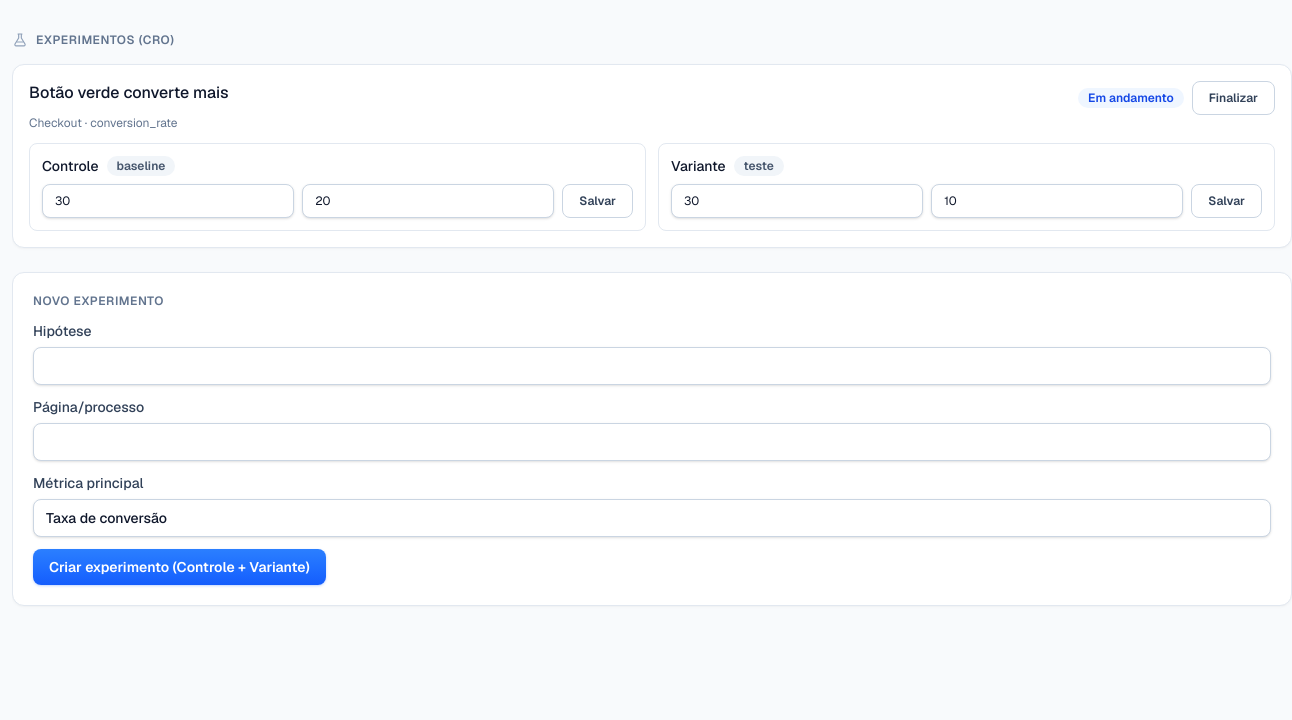
ExperimentsPage › experimento em andamento mostra 'Finalizar' e avança para 'Finalizado', sem mais botão de avanço
Expected: the text "Botão verde converte mais" is shown, [29,81,228,105]
What coordinates should you click on to do the following:
click the button "Finalizar"
I would click on:
 (1233, 98)
Its box is [1192,81,1275,115].
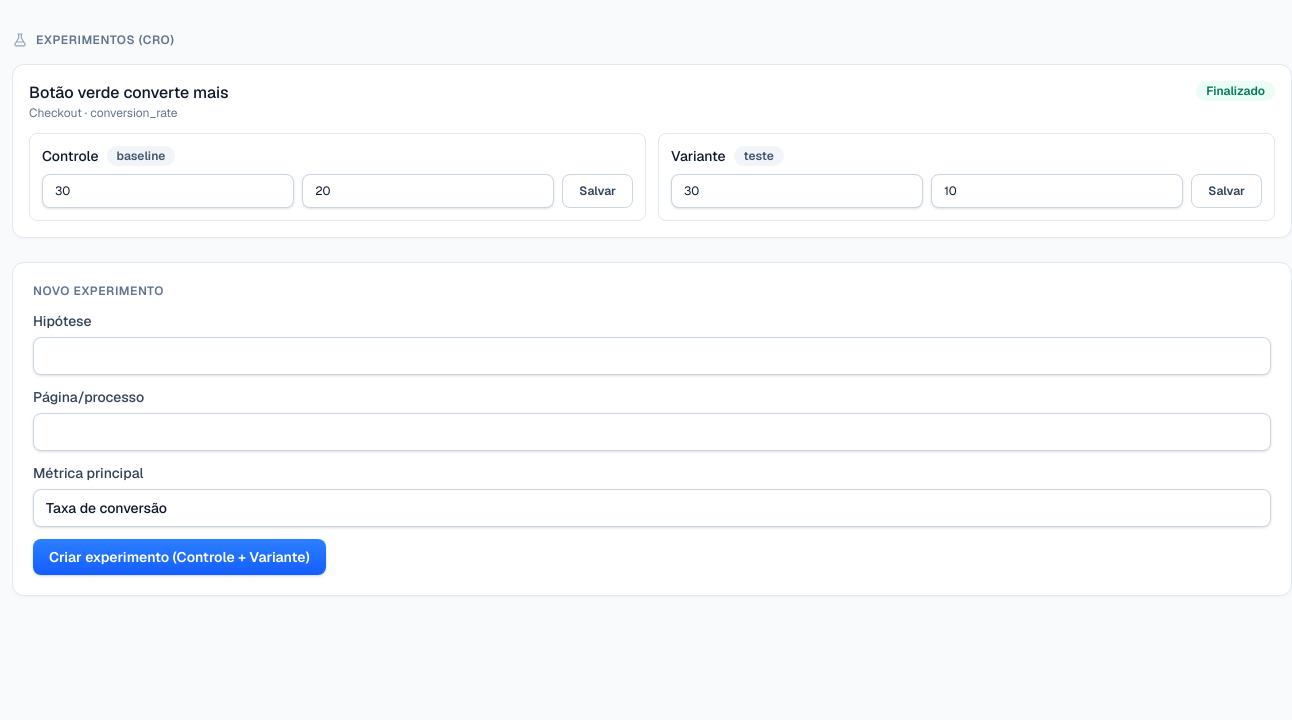
Expected: the text "Finalizado" is shown, [1196,81,1275,101]
Expected: the button "Finalizar" is gone
